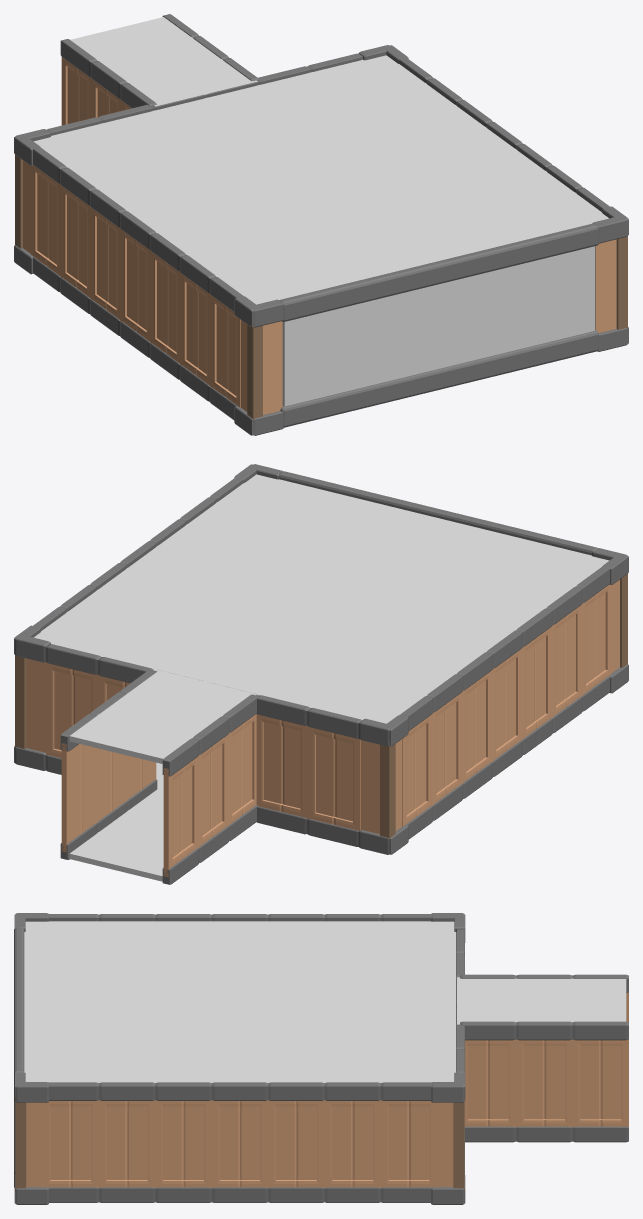
Rendered from based.fbx.
3 renders of one model, top to bottom at view 1: azimuth 30°, elevation 25°; view 2: azimuth 150°, elevation 25°; view 3: azimuth 270°, elevation 25°, orthographic. The views are drawn at different scales.
Parts seen in each view (by area): view 1: Cube, glass wall, Wall, Angle, Cube.003, Wall.002, Wall.001; view 2: Cube, Wall, Wall.002, Wall.001, Angle, Cube.003, Cube.002, glass wall; view 3: Cube, Wall, Wall.002, Angle, Cube.003, glass wall, Wall.001.
Part boxes in pixels (box(x1,y1,x2,y2)): Cube: box(33, 55, 608, 304); glass wall: box(279, 223, 598, 427); Wall: box(31, 57, 609, 420); Angle: box(14, 45, 628, 435); Cube.003: box(70, 17, 257, 106); Wall.002: box(60, 14, 258, 125); Wall.001: box(46, 53, 362, 135); Cube: box(34, 474, 609, 723); Wall: box(33, 476, 611, 839); Wall.002: box(60, 669, 258, 884); Wall.001: box(45, 644, 361, 846); Angle: box(14, 464, 628, 854); Cube.003: box(69, 669, 256, 763); Cube.002: box(69, 787, 163, 881); glass wall: box(279, 471, 597, 555); Cube: box(24, 921, 456, 1082); Wall: box(42, 914, 437, 1202); Wall.002: box(460, 974, 628, 1142); Angle: box(14, 913, 465, 1204); Cube.003: box(457, 977, 626, 1024); glass wall: box(14, 927, 24, 1187); Wall.001: box(456, 929, 464, 1174).
Bounding box in the file's own units: 1459 × 466 × 2182.
